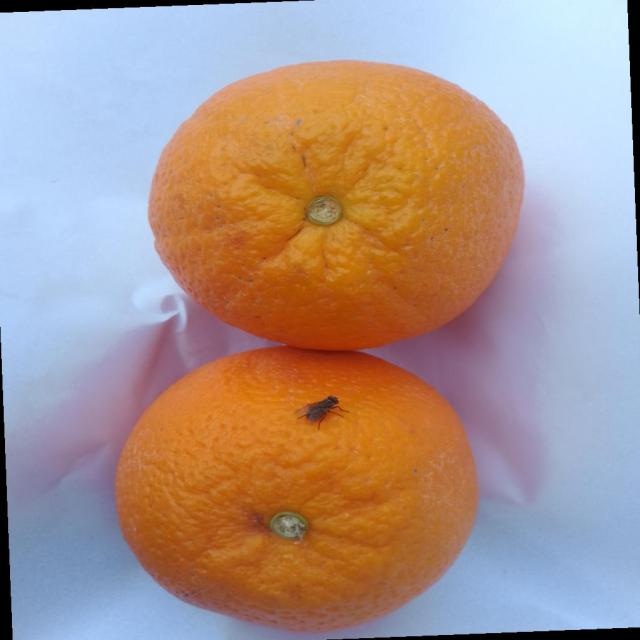fresh orange: (146, 58, 526, 351), (113, 344, 479, 634)
